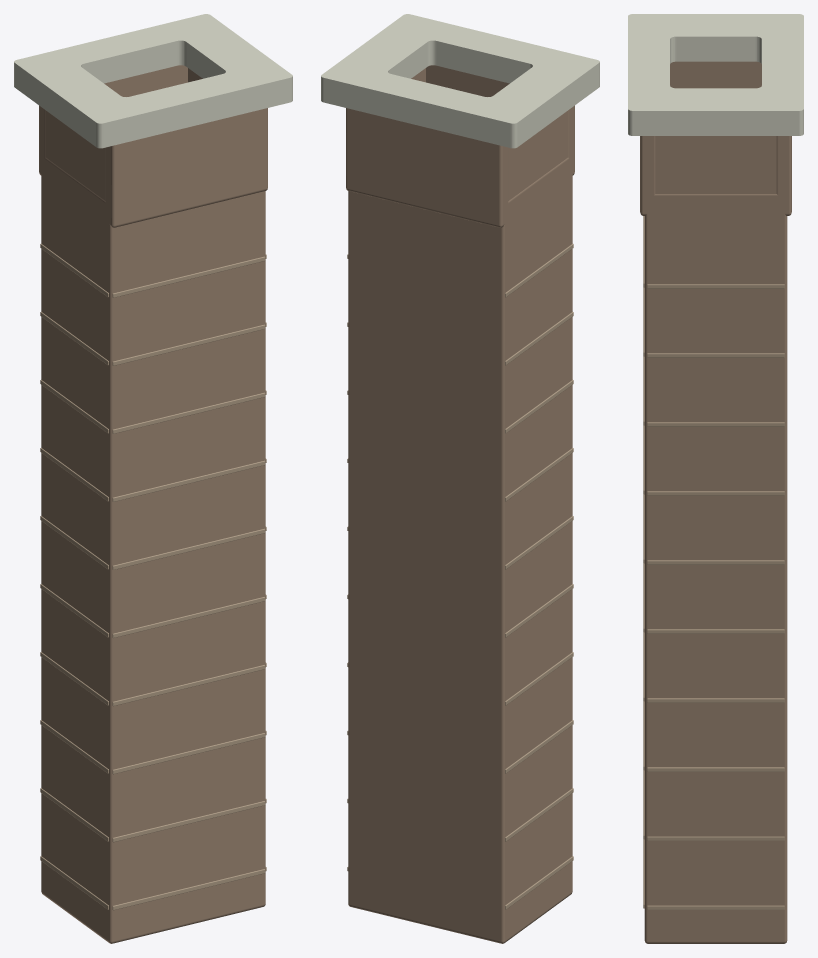
The model's file is chimney.glb.
3 renders of one model, left to right at view 1: azimuth 30°, elevation 25°; view 2: azimuth 150°, elevation 25°; view 3: azimuth 270°, elevation 25°, orthographic.
Parts seen in each view (by area): view 1: chimney-masonry, open-flue-cap, flue-front-back-1, flue-side--1, flue-front-back--1, front-mortar-1, front-mortar-2, front-mortar-5, front-mortar-6, front-mortar-8, front-mortar-9, front-mortar-0 (+3 smaller); view 2: chimney-masonry, open-flue-cap, flue-front-back--1, flue-side--1, flue-front-back-1; view 3: chimney-masonry, open-flue-cap, flue-side-1, flue-side--1, flue-front-back-1, flue-front-back--1, side-mortar-0-1, side-mortar-1-1, side-mortar-2-1, side-mortar-3-1, side-mortar-4-1, side-mortar-5-1 (+4 smaller).
Part boxes in pixels (x1,y1,x2,y2): chimney-masonry: (41,157,265,943); open-flue-cap: (14,14,292,148); flue-front-back-1: (105,108,267,227); flue-side--1: (45,110,105,200); flue-front-back--1: (39,65,187,175); front-mortar-1: (112,801,265,842); front-mortar-2: (112,733,265,774); front-mortar-5: (112,528,265,569); front-mortar-6: (112,460,265,501); front-mortar-8: (112,324,265,365); front-mortar-9: (112,256,265,297); front-mortar-0: (112,869,265,910); chimney-masonry: (348,157,572,943); open-flue-cap: (321,14,599,148); flue-front-back--1: (346,108,508,227); flue-side--1: (508,110,568,200); flue-front-back-1: (426,65,574,175); chimney-masonry: (644,194,787,943); open-flue-cap: (628,14,803,135); flue-side-1: (655,136,776,193); flue-side--1: (670,61,761,88); flue-front-back-1: (640,136,655,215); flue-front-back--1: (776,136,791,215); side-mortar-0-1: (647,905,784,909); side-mortar-1-1: (647,836,784,840); side-mortar-2-1: (647,767,784,771); side-mortar-3-1: (647,698,784,702); side-mortar-4-1: (647,629,784,633); side-mortar-5-1: (647,560,784,564).
Size of the model in its own units: 0.9 by 3.65 by 0.69.
